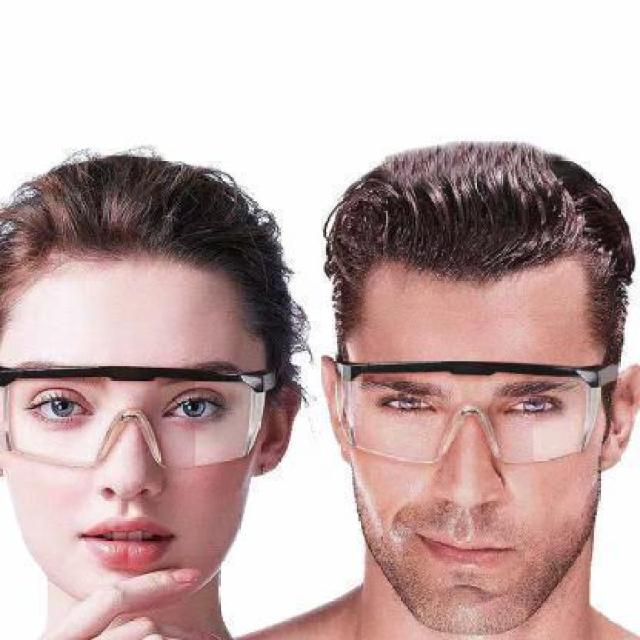face_nomask: (364, 376, 584, 595), (30, 371, 219, 574)
glasses: (1, 358, 282, 474), (344, 356, 625, 467)
head_nohelmet: (0, 148, 285, 322), (341, 143, 608, 312)
